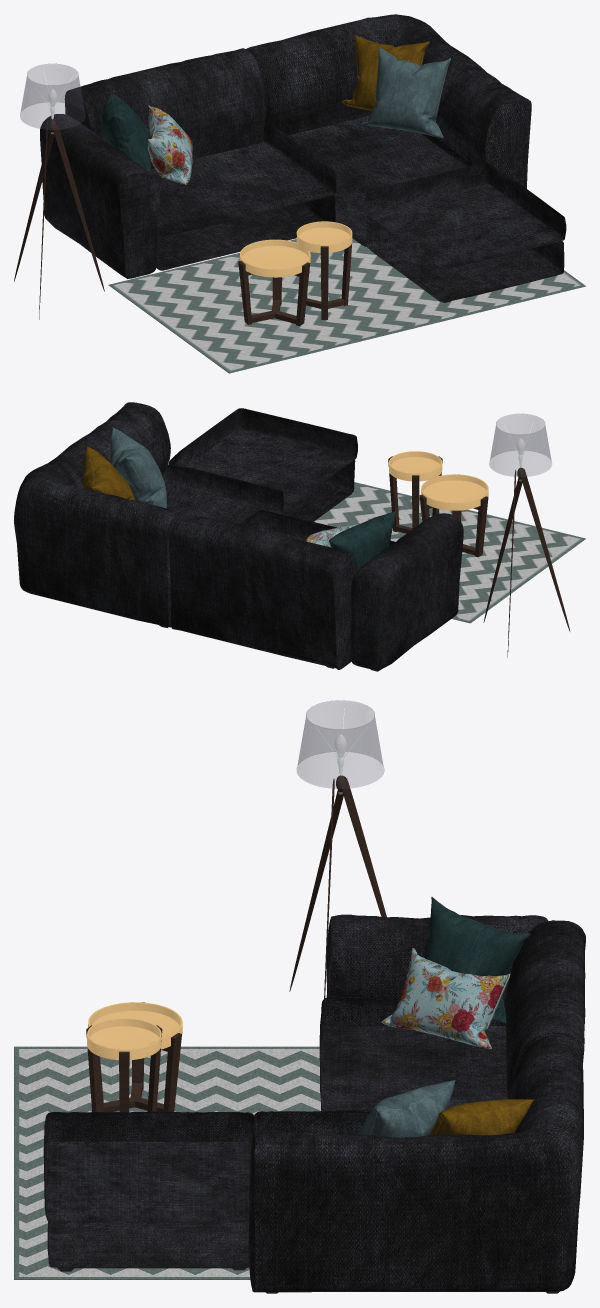
The model's file is Compressed_Sofa_Set.glb.
3 renders of one model, top to bottom at view 1: azimuth 30°, elevation 25°; view 2: azimuth 150°, elevation 25°; view 3: azimuth 270°, elevation 25°, orthographic. The views are drawn at different scales.
Visible parts, largest first — view 1: fabric.005, carpet, Lamp, pfabric.004, fabric.001, pfabric.003, pfabric.002, pfabric; view 2: fabric.005, carpet, Lamp, fabric.001, pfabric.004, pfabric.002, pfabric, pfabric.003; view 3: fabric.005, carpet, Lamp, pfabric.003, pfabric.002, fabric.001, pfabric.004, pfabric.
Part boxes in pixels (x1=…): fabric.005: x1=40, y1=14, x2=566, y2=302; carpet: x1=108, y1=238, x2=585, y2=373; Lamp: x1=14, y1=63, x2=352, y2=326; pfabric.004: x1=361, y1=47, x2=450, y2=138; fabric.001: x1=32, y1=70, x2=557, y2=302; pfabric.003: x1=147, y1=105, x2=192, y2=184; pfabric.002: x1=101, y1=92, x2=150, y2=172; pfabric: x1=341, y1=35, x2=429, y2=110; fabric.005: x1=14, y1=402, x2=463, y2=670; carpet: x1=314, y1=482, x2=585, y2=623; Lamp: x1=388, y1=413, x2=570, y2=657; fabric.001: x1=159, y1=422, x2=537, y2=671; pfabric.004: x1=110, y1=428, x2=166, y2=508; pfabric.002: x1=329, y1=511, x2=395, y2=570; pfabric: x1=83, y1=446, x2=134, y2=500; pfabric.003: x1=305, y1=523, x2=359, y2=547; fabric.005: x1=43, y1=914, x2=585, y2=1292; carpet: x1=14, y1=1046, x2=320, y2=1279; Lamp: x1=86, y1=700, x2=386, y2=1112; pfabric.003: x1=381, y1=948, x2=510, y2=1049; pfabric.002: x1=423, y1=897, x2=530, y2=1023; fabric.001: x1=57, y1=708, x2=559, y2=1293; pfabric.004: x1=358, y1=1080, x2=455, y2=1137; pfabric: x1=430, y1=1099, x2=534, y2=1135.
Size of the model in its own units: 3.14 by 1.4 by 2.43.
10 materials, 10 textured.
